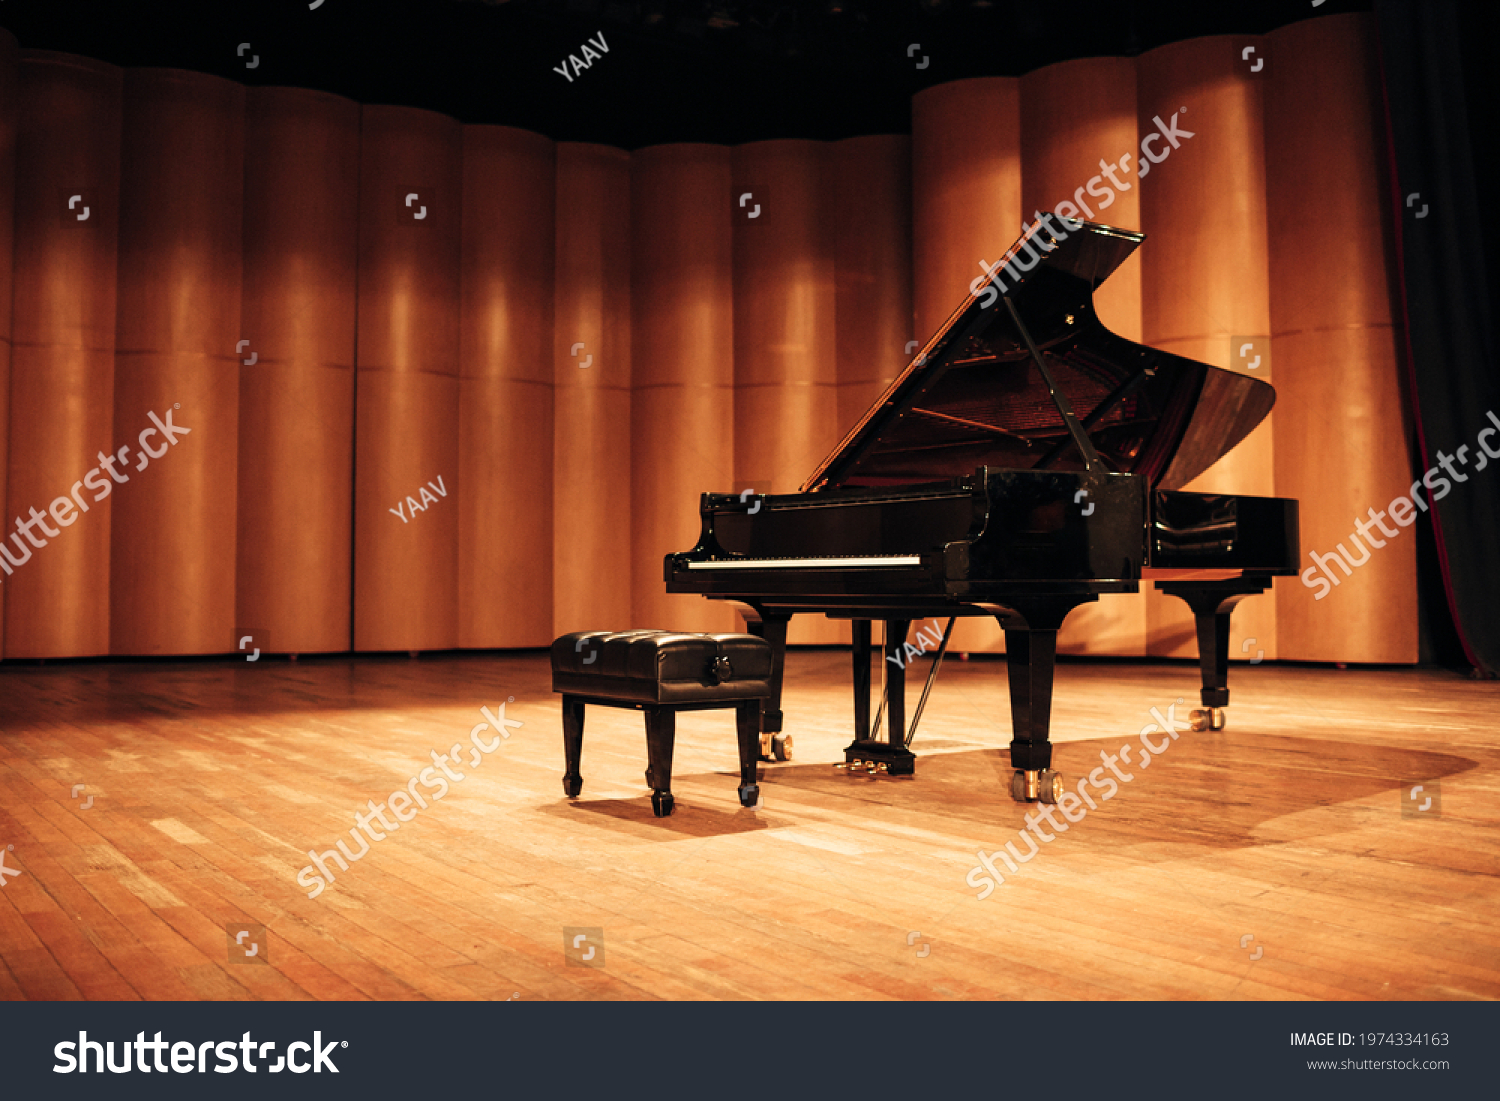Piano: (512, 133, 1443, 793)
